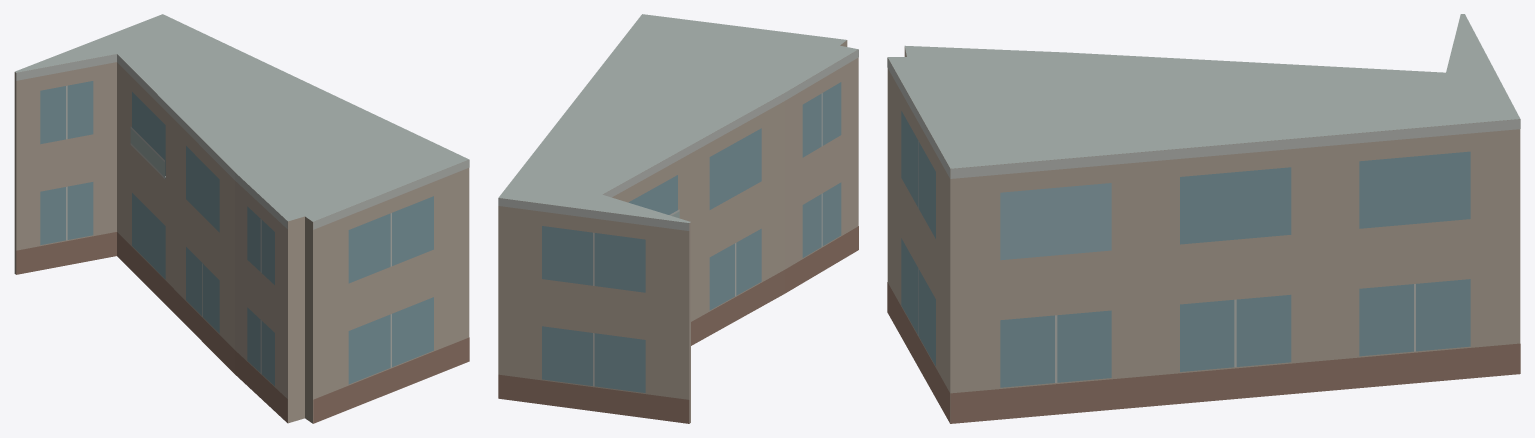
Rendered from survey-upis-32595871.glb.
The picture shows the model from 3 angles, left to right: view 1: azimuth 30°, elevation 25°; view 2: azimuth 150°, elevation 25°; view 3: azimuth 270°, elevation 25°; orthographic projection. The views are drawn at different scales.
Visible parts, largest first — view 1: survey-upis-32595871.tmp; view 2: survey-upis-32595871.tmp; view 3: survey-upis-32595871.tmp.
Part boxes in pixels (box(x1,y1,x2,y2)): survey-upis-32595871.tmp: box(14, 14, 469, 423); survey-upis-32595871.tmp: box(498, 14, 858, 423); survey-upis-32595871.tmp: box(887, 14, 1520, 423).
Size of the model in its own units: 7.95 by 6.1 by 13.73.
